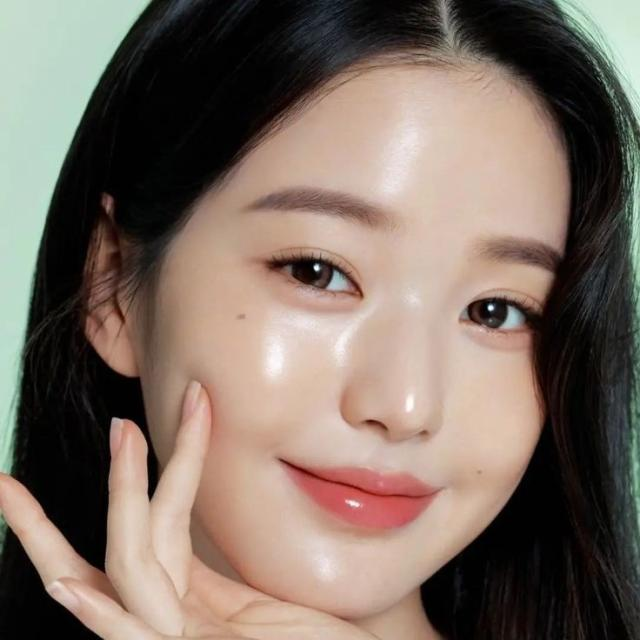Oily-Skin: (344, 94, 536, 196), (200, 304, 341, 424), (271, 529, 402, 607), (457, 367, 527, 503), (378, 313, 450, 423)
